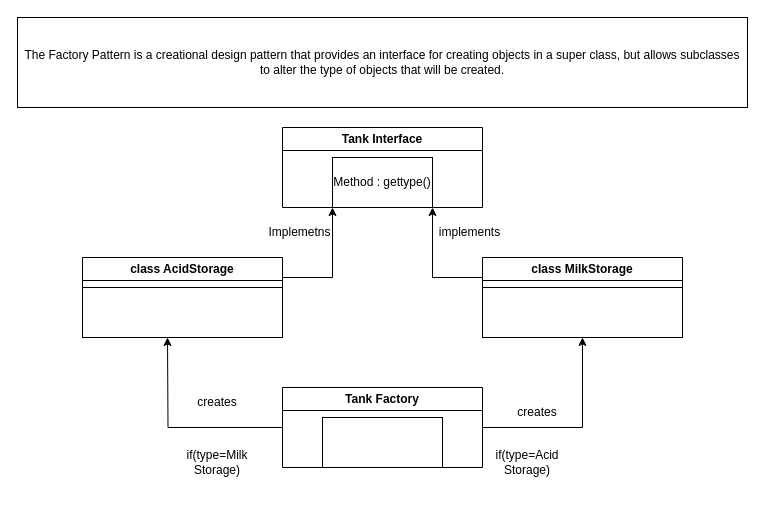
The diagram is 765 pixels wide and 515 high, and some of its shapes have lost their labels. Here are the shapes that lost their labels. From the top down, the centre of each, then its label:
At point 182,312: "print(Vertical Milk Storage Tank)".
At point 582,312: "print(Horizontal Milk Storage tank".
At point 382,442: "Method : createtank() return type Tank".
